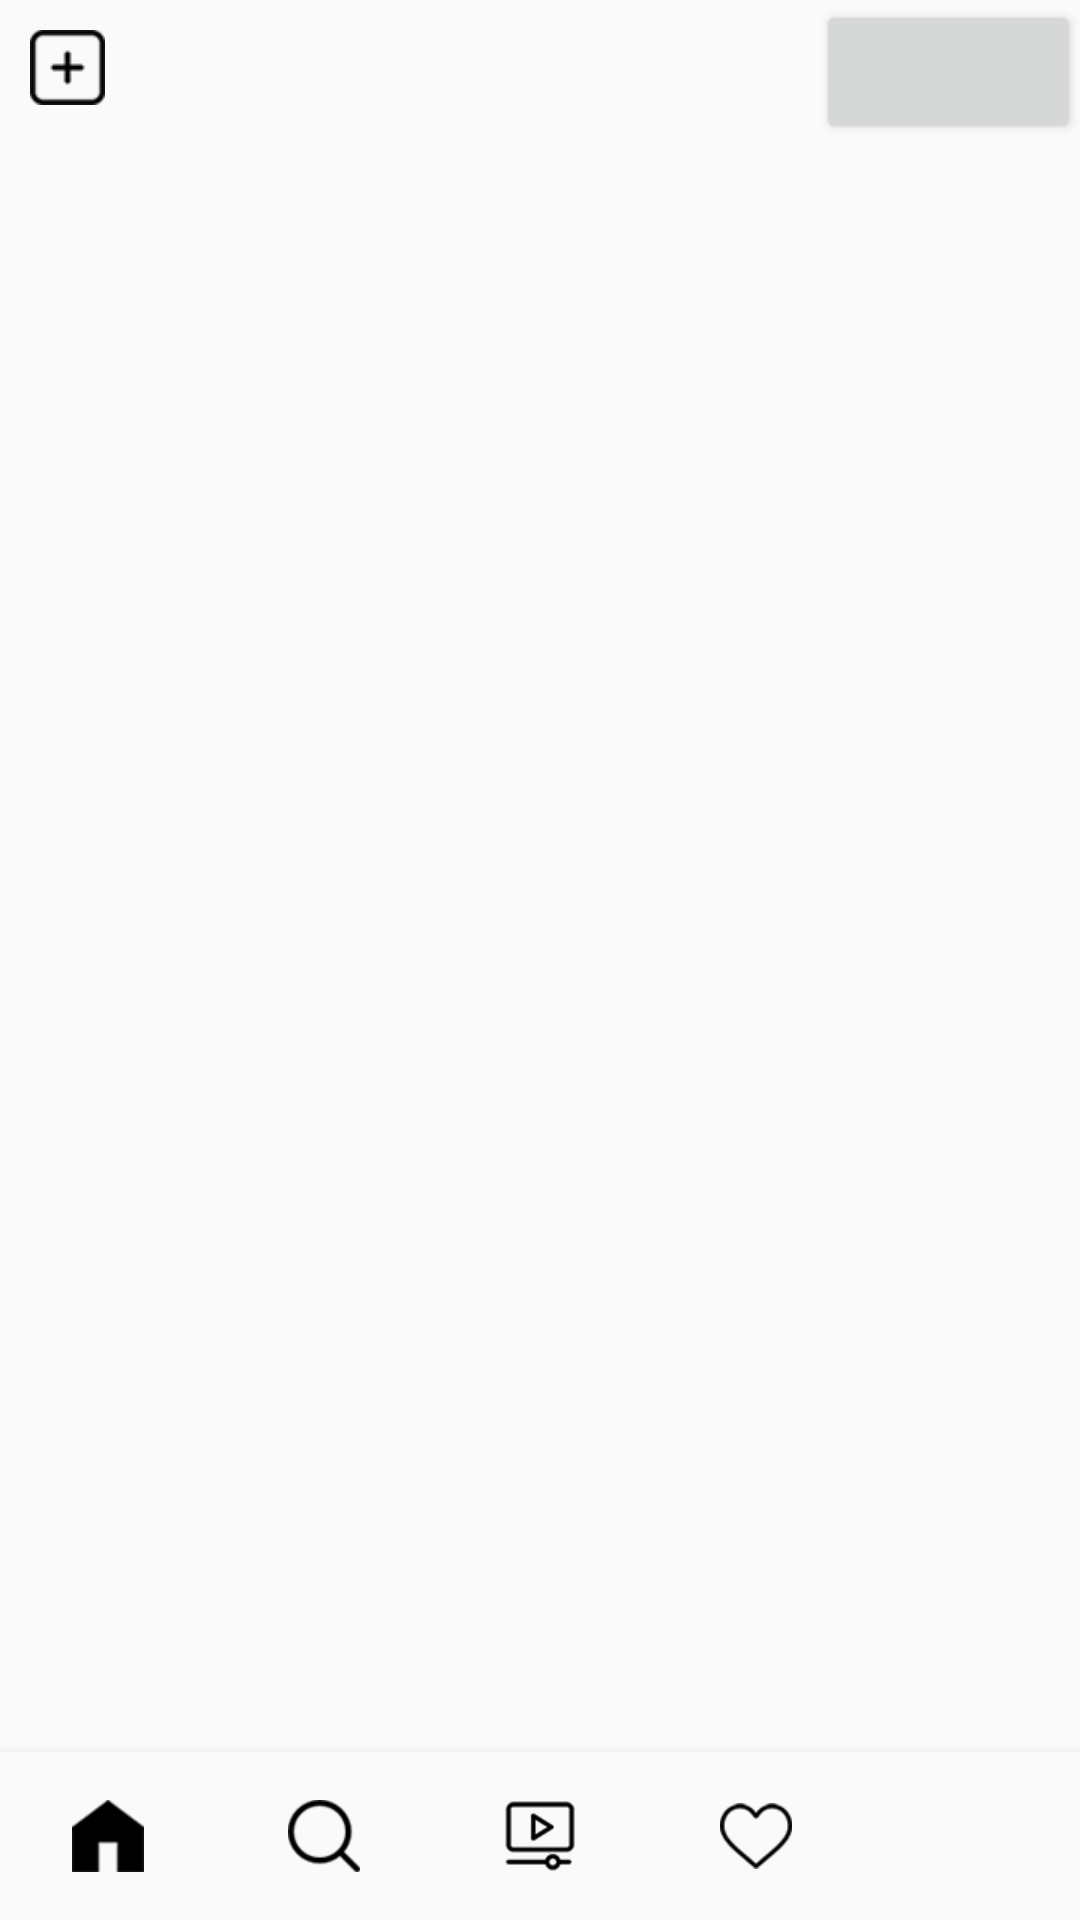

Where icons sit on this 1080px×1920px app screen, as (x1, y1, x2, y2):
plus: (30, 30, 105, 105)
